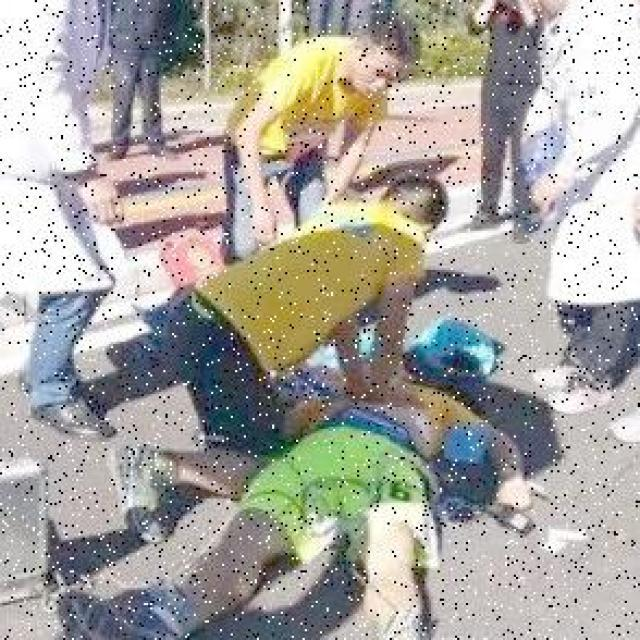fall: (220, 335, 498, 638)
